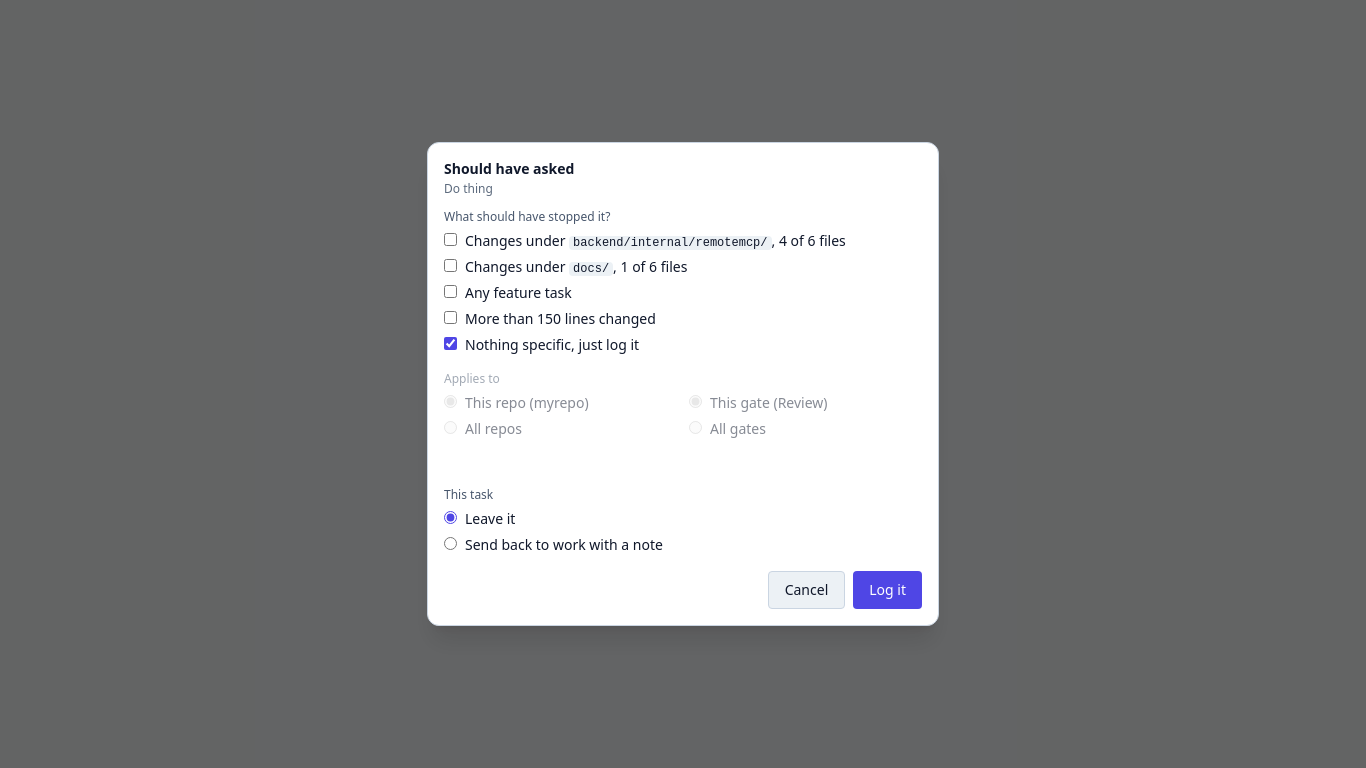
it: ShouldHaveAskedDialog › backtest failure is non-blocking
Click the checkbox labelled "Any feature task".
click(450, 292)  # box [444, 285, 457, 298]
Wait 450 ms
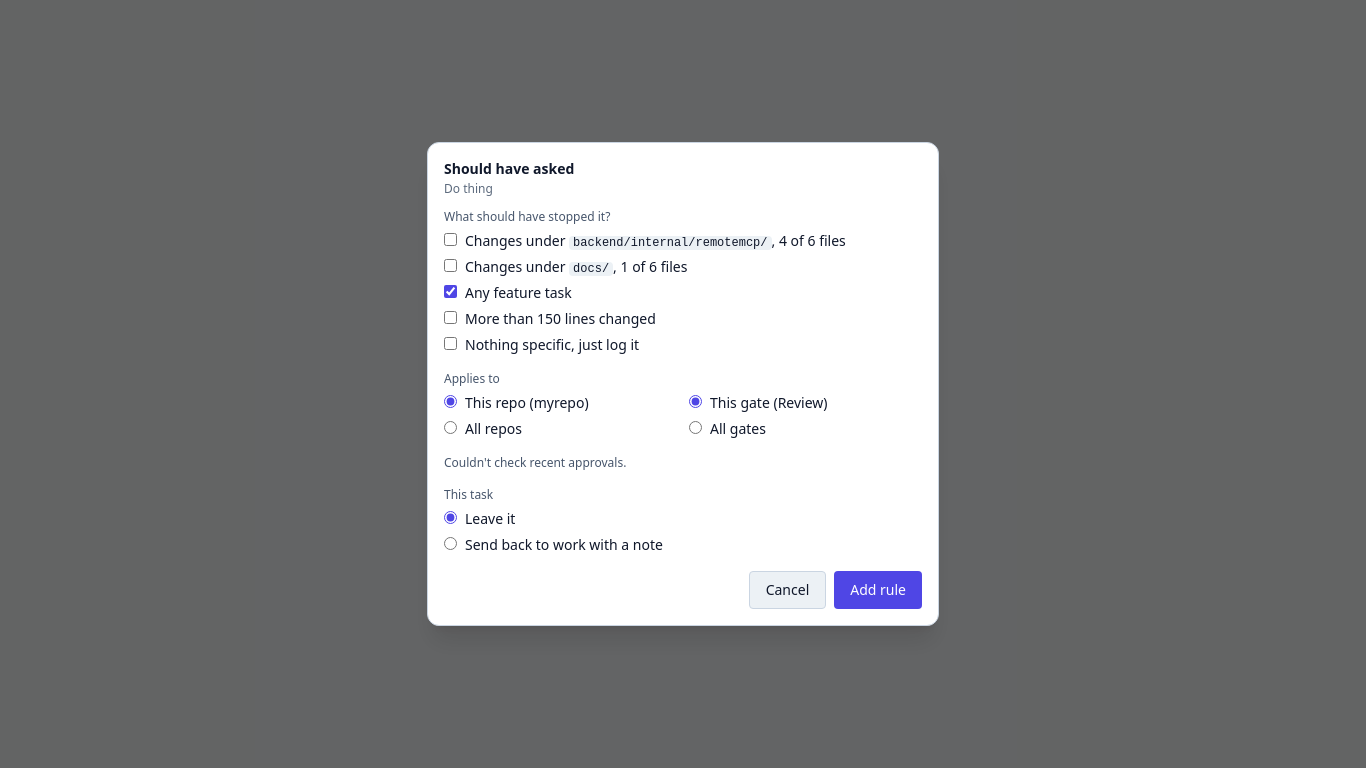
Expected: the button "Add rule" is enabled, [834, 571, 922, 609]
Expected: the text "Couldn't check recent approvals." is shown, [444, 454, 626, 471]
